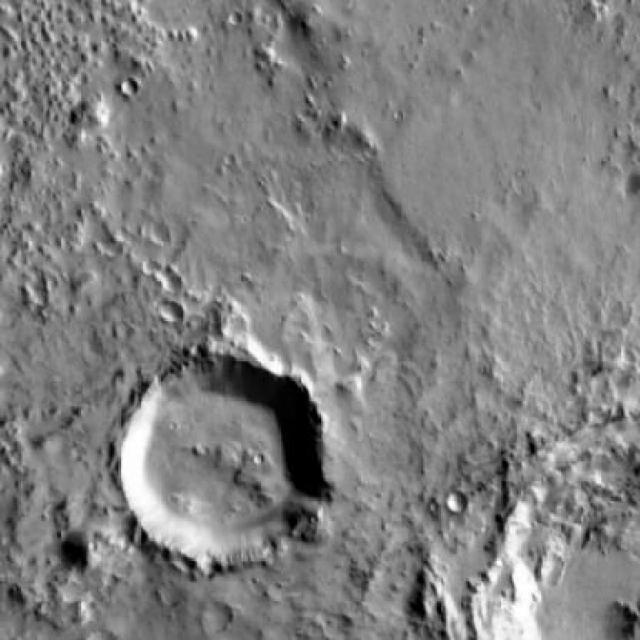crater: (120, 360, 331, 571), (202, 606, 232, 634), (160, 301, 183, 324), (101, 238, 122, 260), (145, 226, 166, 248), (450, 492, 470, 512), (120, 78, 138, 95)
